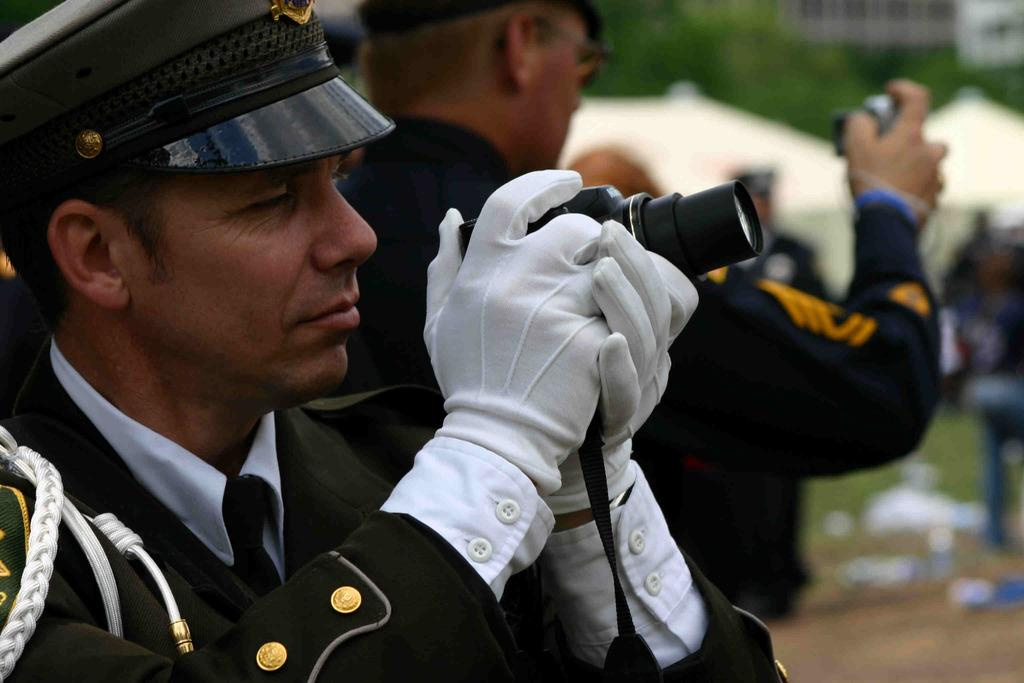Hat: (0, 0, 398, 180)
